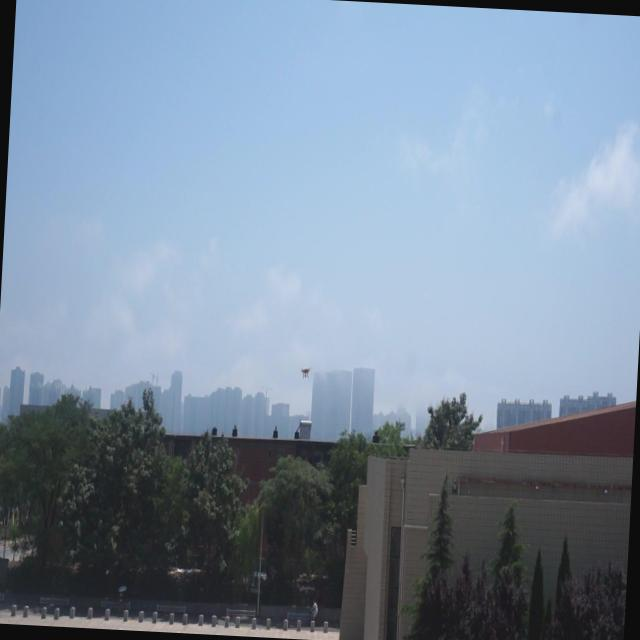drone: (298, 362, 312, 383)
